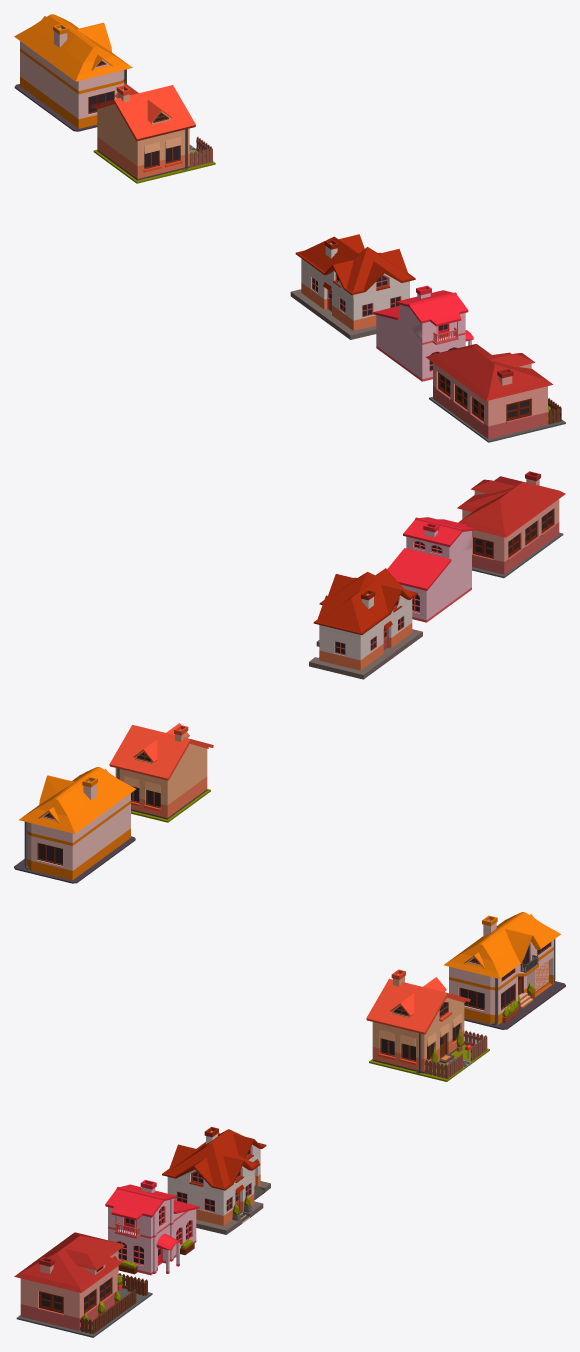
3 views of the same model, one above another, from view 1: azimuth 30°, elevation 25°; view 2: azimuth 150°, elevation 25°; view 3: azimuth 330°, elevation 25° (orthographic).
Visible parts, largest first — view 1: PublicBuilding_5, PublicBuilding_4, PublicBuilding_7, PublicBuilding_3, PublicBuilding_6; view 2: PublicBuilding_4, PublicBuilding_7, PublicBuilding_5, PublicBuilding_3, PublicBuilding_6; view 3: PublicBuilding_4, PublicBuilding_5, PublicBuilding_3, PublicBuilding_7, PublicBuilding_6.
Boxes of the visible parts, x1=… form: PublicBuilding_5: x1=426, y1=344, x2=565, y2=442; PublicBuilding_4: x1=14, y1=14, x2=132, y2=131; PublicBuilding_7: x1=290, y1=234, x2=415, y2=339; PublicBuilding_3: x1=91, y1=83, x2=215, y2=183; PublicBuilding_6: x1=373, y1=285, x2=473, y2=381; PublicBuilding_4: x1=14, y1=767, x2=135, y2=883; PublicBuilding_7: x1=309, y1=568, x2=422, y2=679; PublicBuilding_5: x1=457, y1=471, x2=565, y2=578; PublicBuilding_3: x1=109, y1=723, x2=213, y2=822; PublicBuilding_6: x1=387, y1=517, x2=474, y2=622; PublicBuilding_4: x1=444, y1=912, x2=565, y2=1029; PublicBuilding_5: x1=14, y1=1232, x2=152, y2=1337; PublicBuilding_3: x1=366, y1=969, x2=489, y2=1081; PublicBuilding_7: x1=162, y1=1127, x2=270, y2=1234; PublicBuilding_6: x1=105, y1=1180, x2=199, y2=1275.
Size of what is drawn, in the model's own units: 3.82 by 3.44 by 38.52.
1 material, 1 textured.
